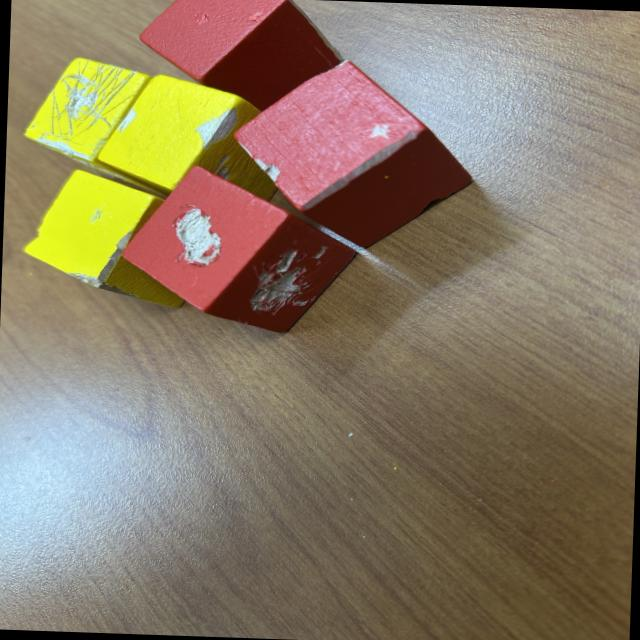broken: (227, 56, 476, 252), (115, 164, 359, 334), (97, 71, 289, 218), (21, 167, 202, 308), (137, 0, 345, 118), (22, 56, 192, 190)
